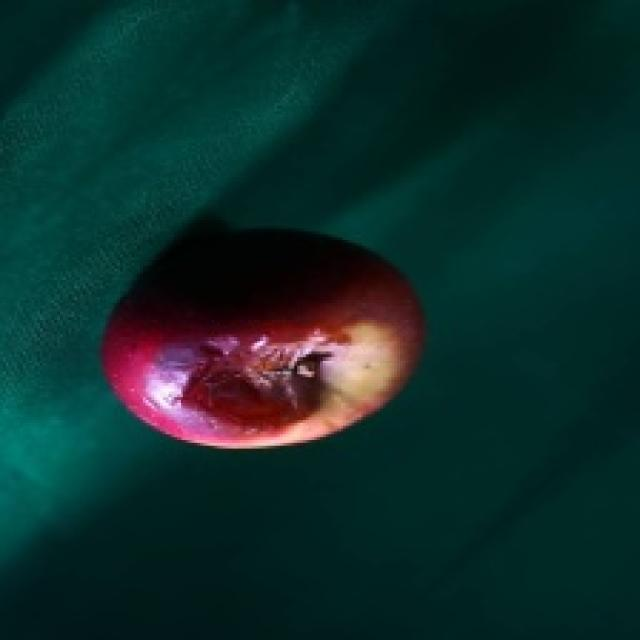rotten_apple: (114, 236, 420, 442)
